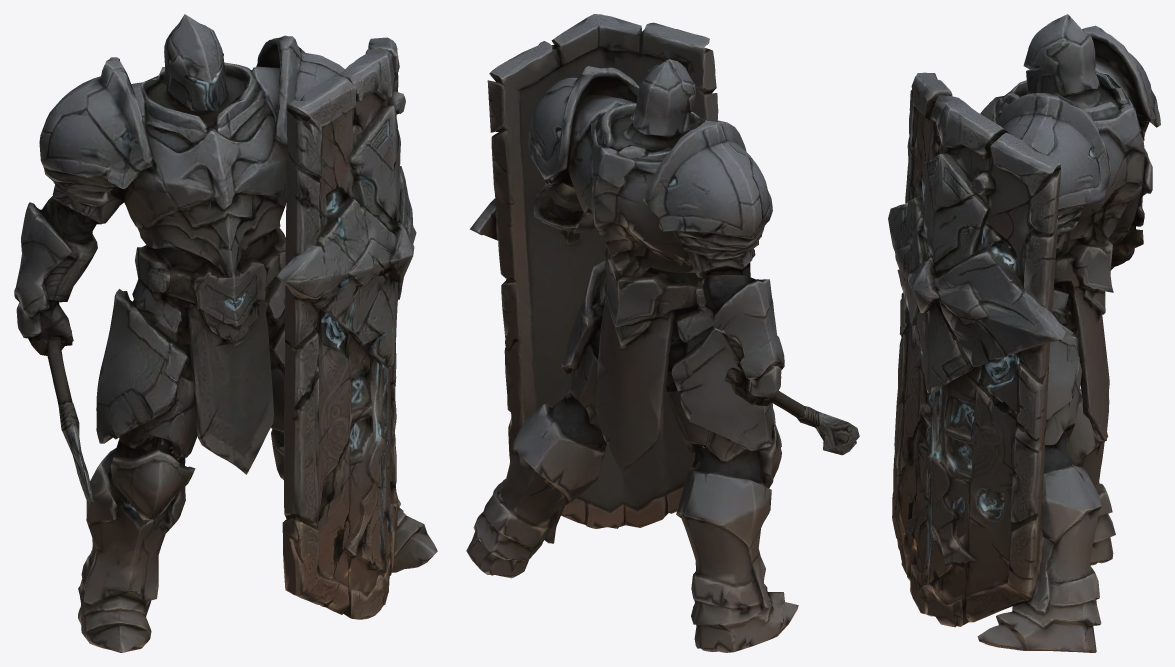
File: fantasy.glb
3 views of the same model, side by side, from view 1: azimuth 30°, elevation 25°; view 2: azimuth 150°, elevation 25°; view 3: azimuth 270°, elevation 25° (orthographic). The views are drawn at different scales.
Visible parts, largest first — view 1: tripo_node_eeabe92e-7d9d-46e3-9da6-f665cc7a419c; view 2: tripo_node_eeabe92e-7d9d-46e3-9da6-f665cc7a419c; view 3: tripo_node_eeabe92e-7d9d-46e3-9da6-f665cc7a419c.
Part boxes in pixels (x1,y1,x2,y2): tripo_node_eeabe92e-7d9d-46e3-9da6-f665cc7a419c: (14, 14, 437, 652); tripo_node_eeabe92e-7d9d-46e3-9da6-f665cc7a419c: (466, 14, 859, 652); tripo_node_eeabe92e-7d9d-46e3-9da6-f665cc7a419c: (888, 14, 1160, 652).
Size of the model in its own units: 0.649 by 0.9971 by 0.4321.
Materials: 1 (1 with a texture image).
